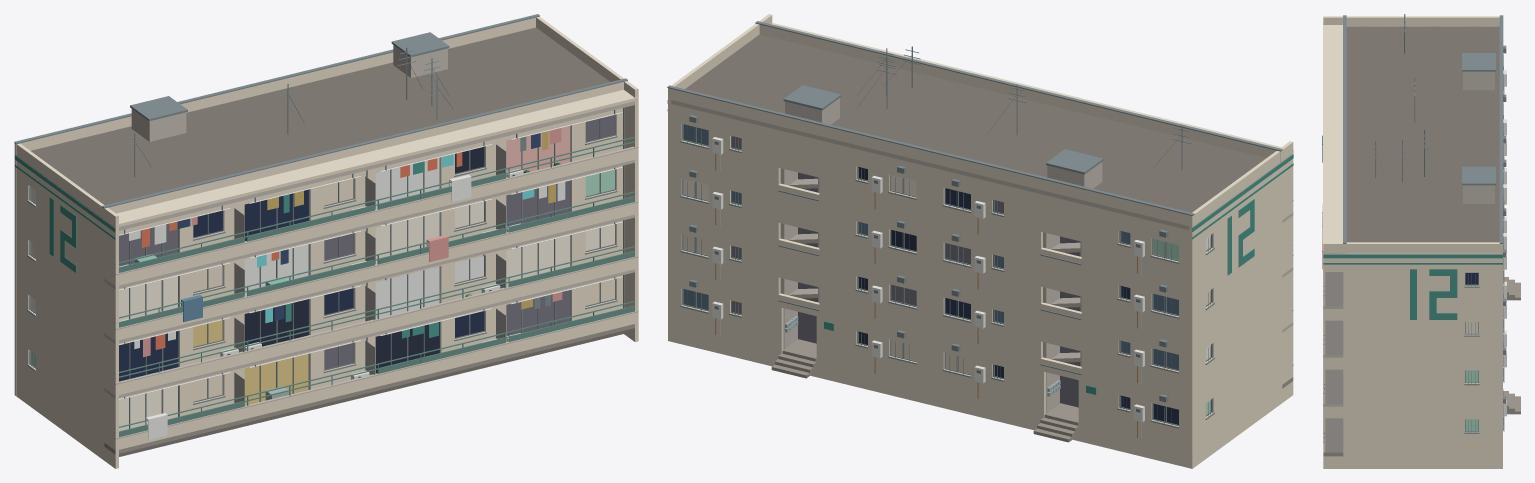
The model's file is tb_danchi_4f_01.fbx.
3 renders of one model, left to right at view 1: azimuth 30°, elevation 25°; view 2: azimuth 150°, elevation 25°; view 3: azimuth 270°, elevation 25°, orthographic. The views are drawn at different scales.
Parts seen in each view (by area): view 1: tb_danchi_4f_01; view 2: tb_danchi_4f_01; view 3: tb_danchi_4f_01.
Boxes of the visible parts, <box> form: tb_danchi_4f_01: <box>14,14,638,468</box>; tb_danchi_4f_01: <box>667,14,1293,468</box>; tb_danchi_4f_01: <box>1322,14,1520,468</box>.
Size of what is drawn, in the model's own units: 27.12 by 14.54 by 9.96.
Materials: 3 (3 with a texture image).
